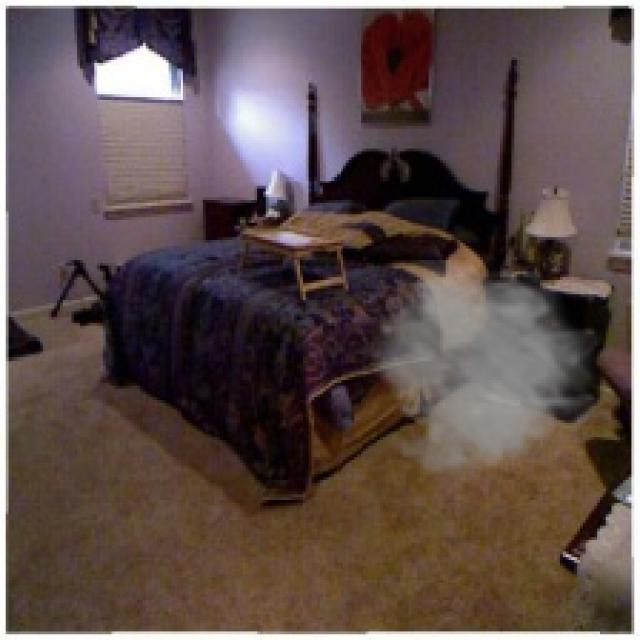smoke: (363, 260, 606, 491)
